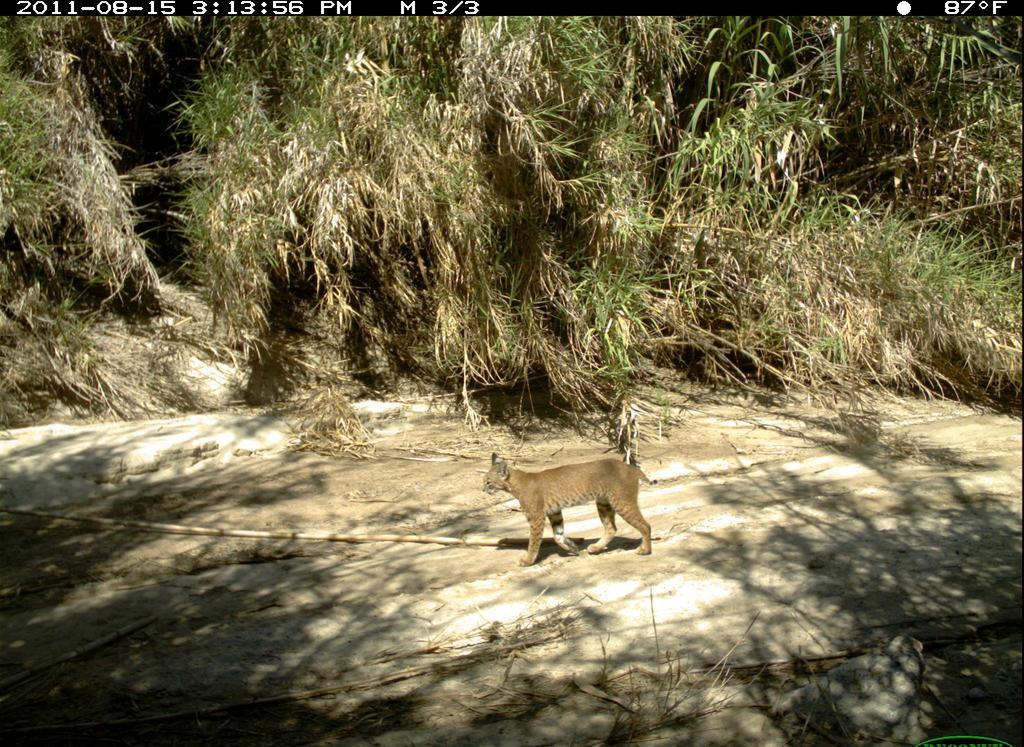bobcat: (458, 422, 670, 578)
